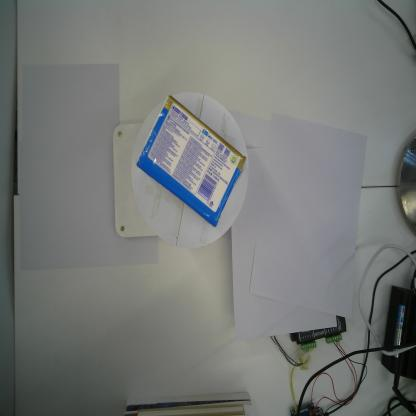Tissue: (136, 93, 247, 229)
